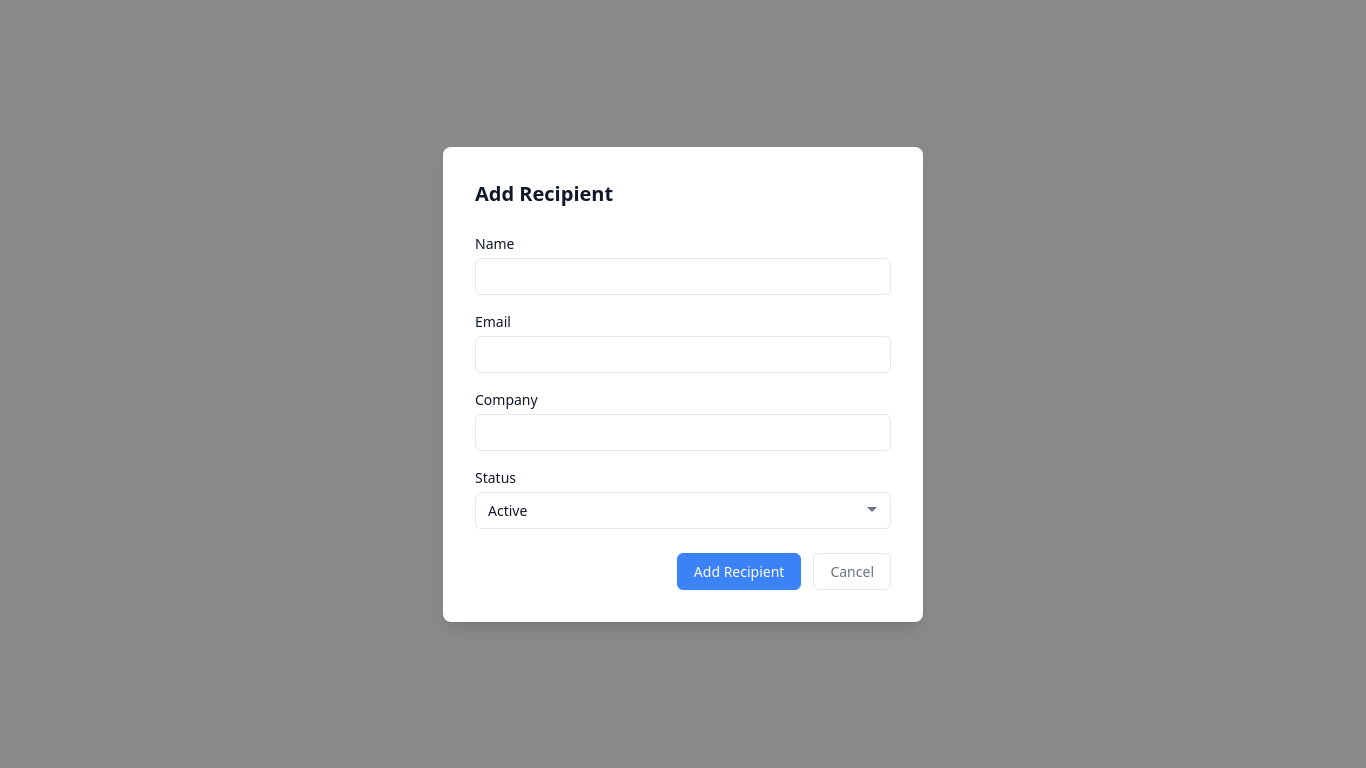
Test: RecipientFormModal › blocks submission and shows an error for an invalid email format
Step 1. Type "Test User" into the field with id "field-name" → {"x": 683, "y": 276}, box top-left (475, 258), bottom-right (891, 294)
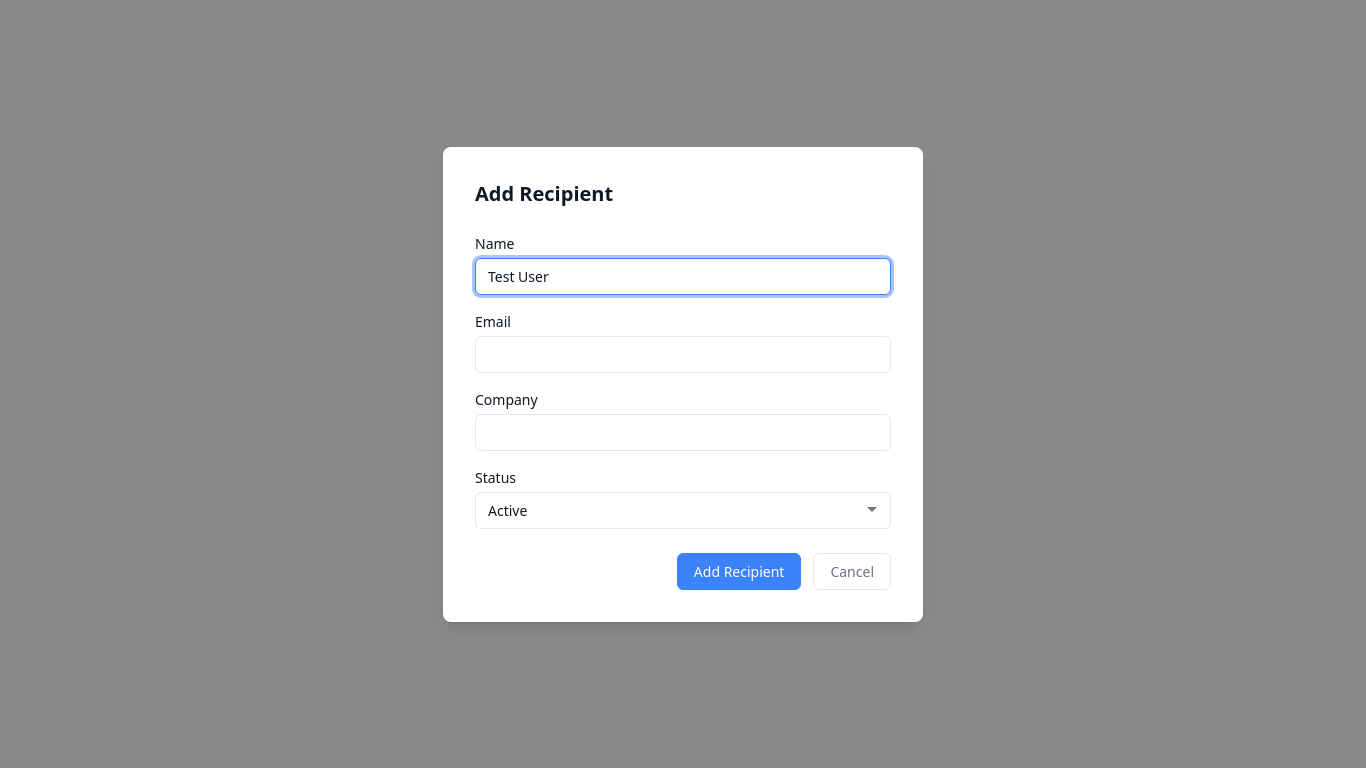
Step 2. Type "not-an-email" into the field with id "field-email" → {"x": 683, "y": 354}, box top-left (475, 336), bottom-right (891, 372)
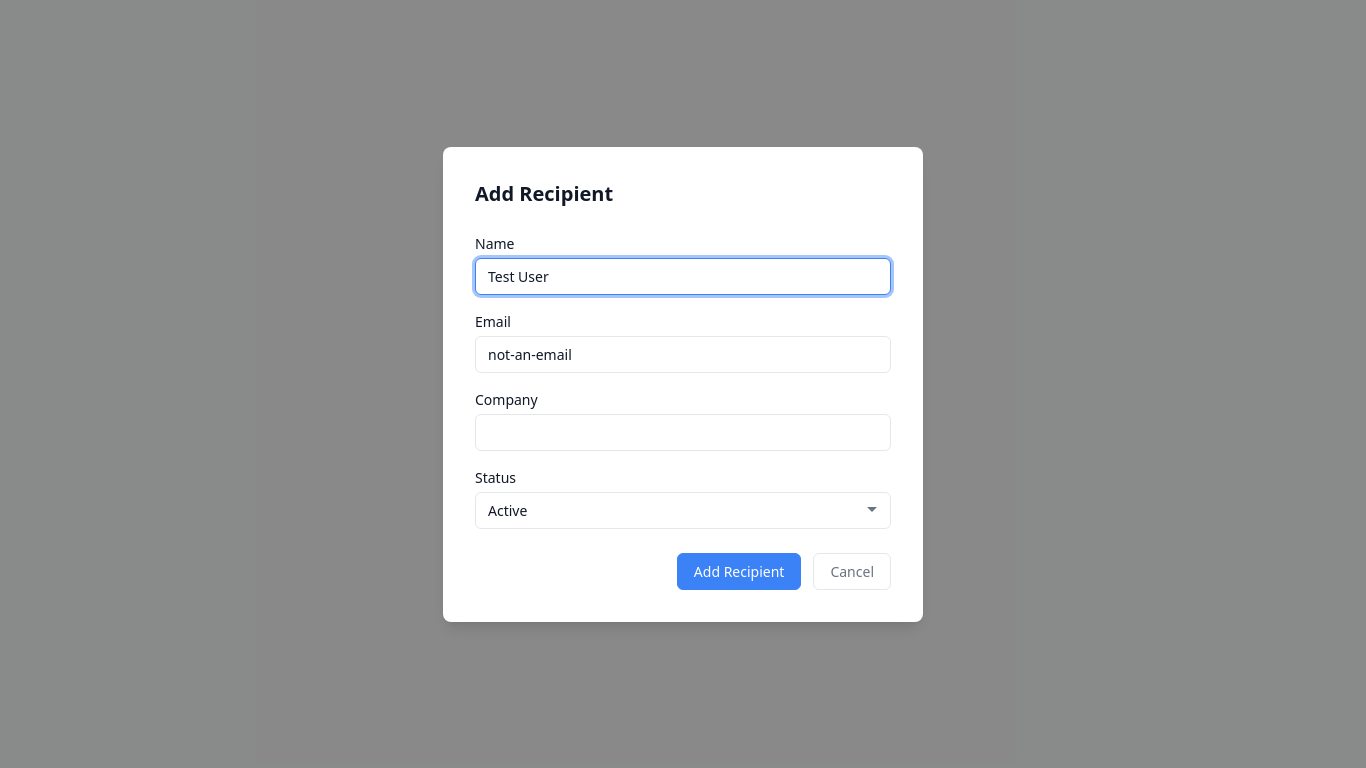
Step 3. Submit the form, box top-left (475, 232), bottom-right (891, 590)
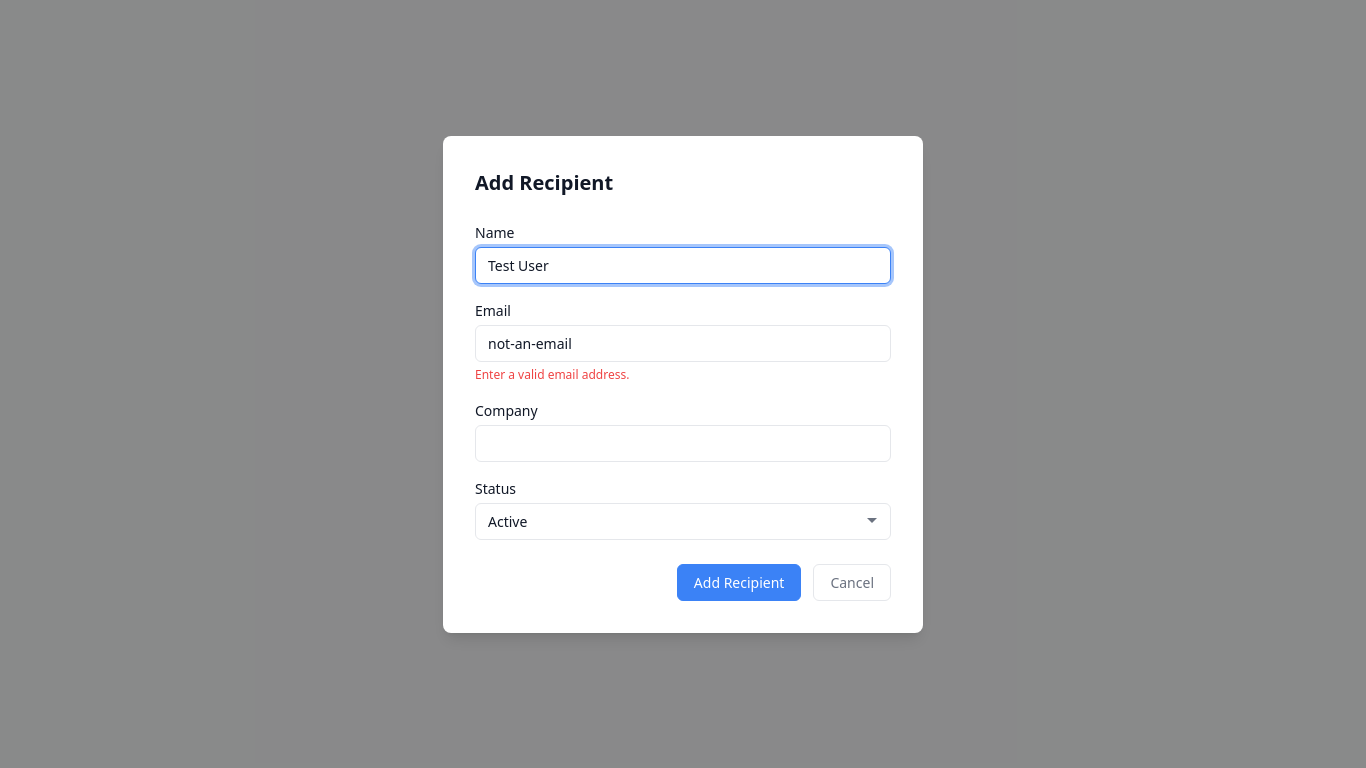
Check: the text "Enter a valid email address." is shown, box top-left (475, 366), bottom-right (629, 382)
